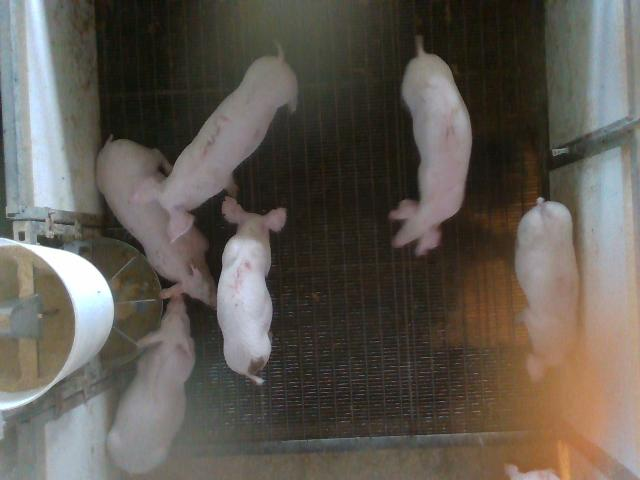pig-3: (133, 45, 298, 242)
pig-5: (218, 196, 286, 384)
